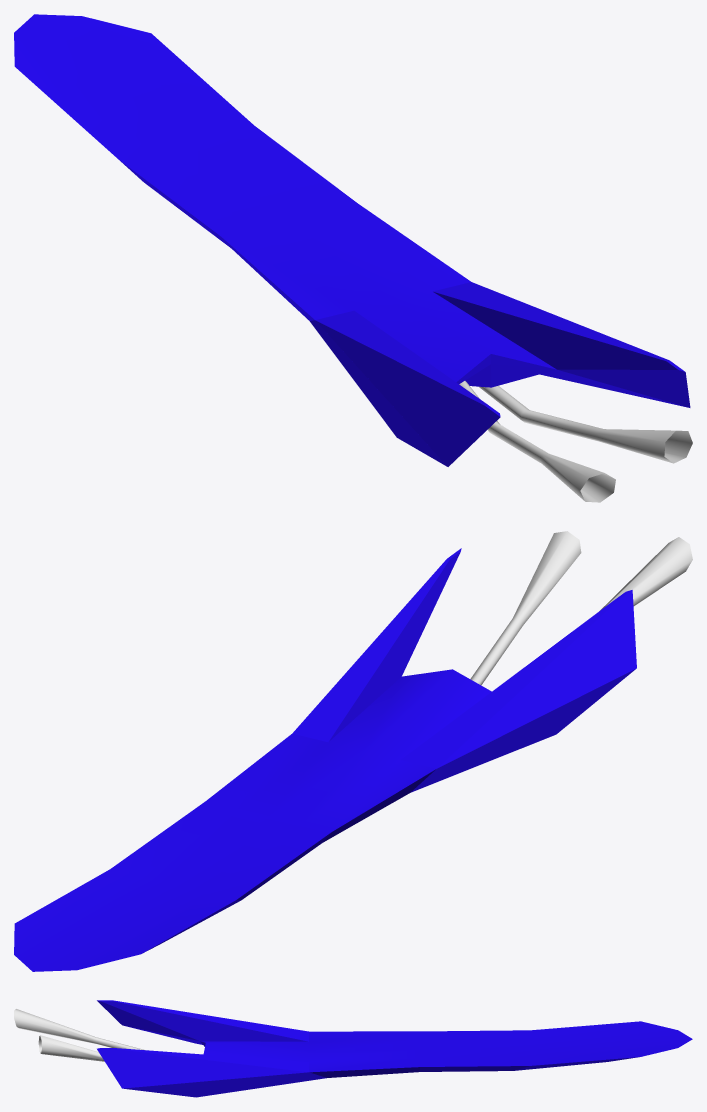
Rendered from skateboard 2.FBX.
The picture shows the model from 3 angles, top to bottom: view 1: azimuth 30°, elevation 25°; view 2: azimuth 150°, elevation 25°; view 3: azimuth 270°, elevation 25°; orthographic projection. The views are drawn at different scales.
Visible parts, largest first — view 1: Plane001, Cylinder001; view 2: Plane001, Cylinder001; view 3: Plane001, Cylinder001.
Part boxes in pixels (x1,y1,x2,y2): Plane001: (14, 14, 690, 466); Cylinder001: (459, 381, 692, 502); Plane001: (14, 548, 636, 971); Cylinder001: (470, 531, 692, 685); Plane001: (97, 1000, 692, 1097); Cylinder001: (14, 1009, 145, 1061).
Bounding box in the file's own units: 17.1 × 5.85 × 77.61.
